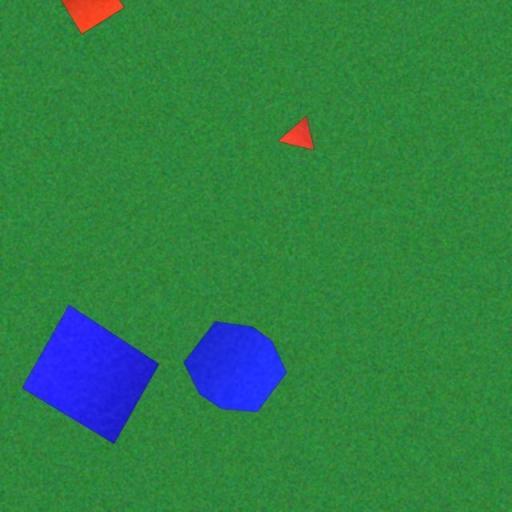BLUE_SQUARE: (21, 304, 160, 445)
RED_SQUARE: (55, 0, 126, 35)
